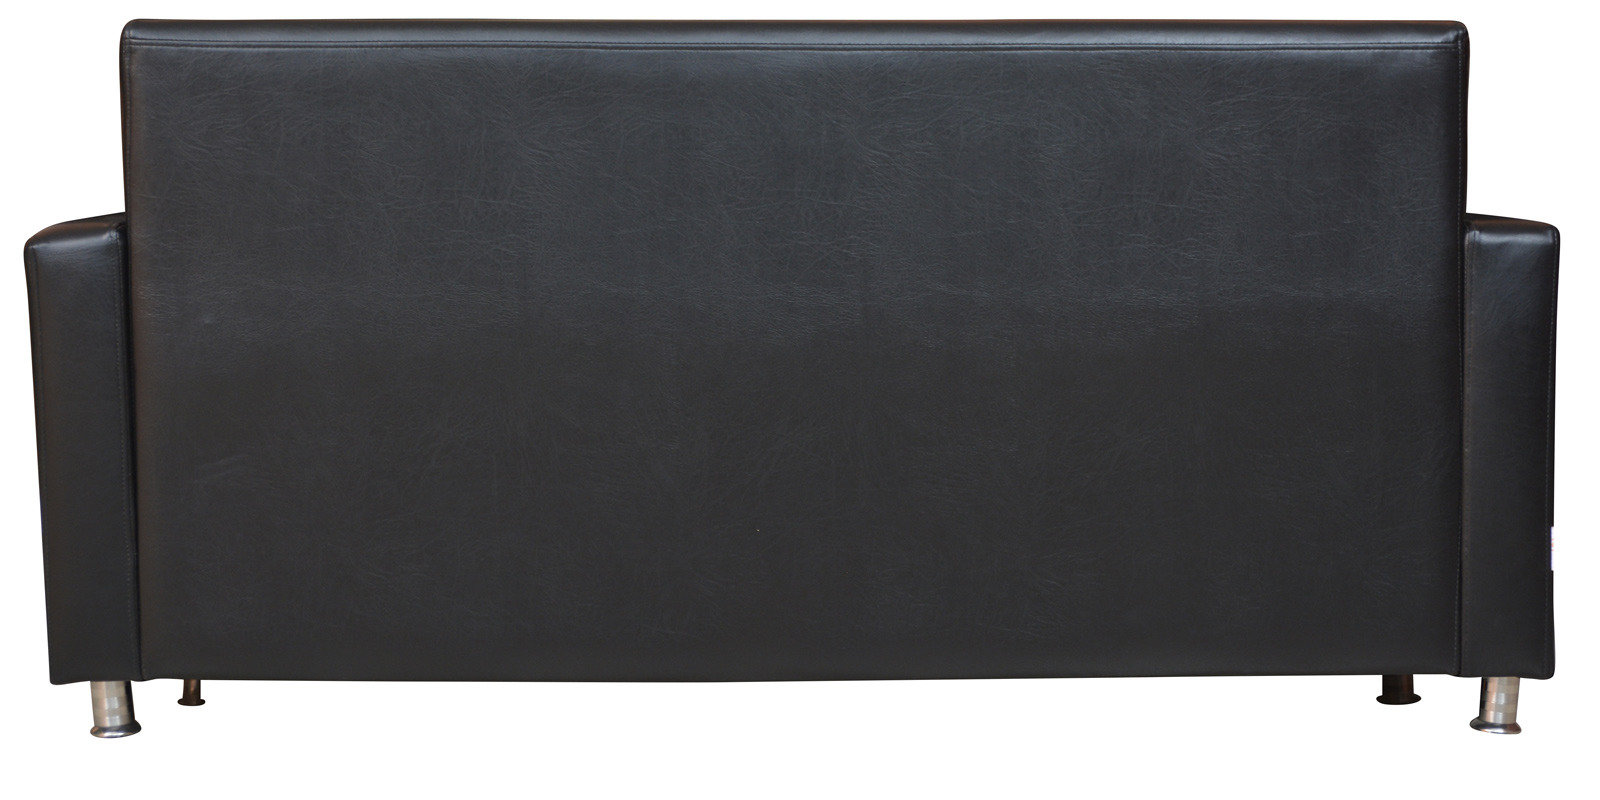Felix Three Seater Sofa in Black Leatherette by Crystal Furnitech: (8, 6, 1592, 766)
